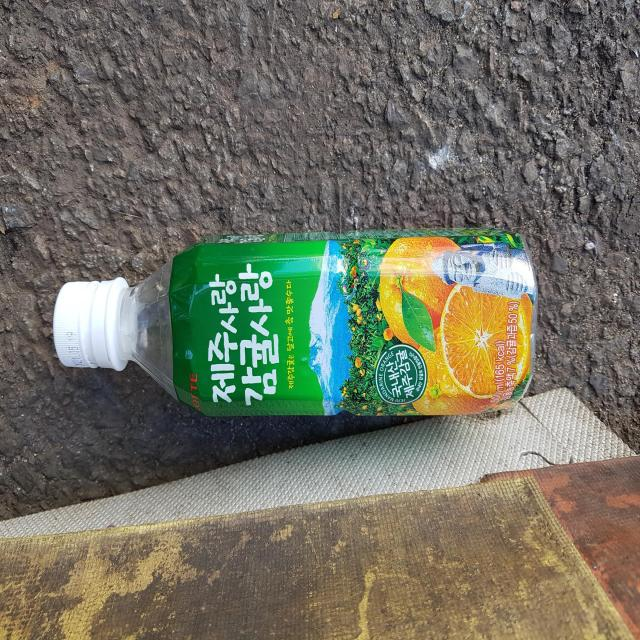plastic: (52, 227, 538, 416)
